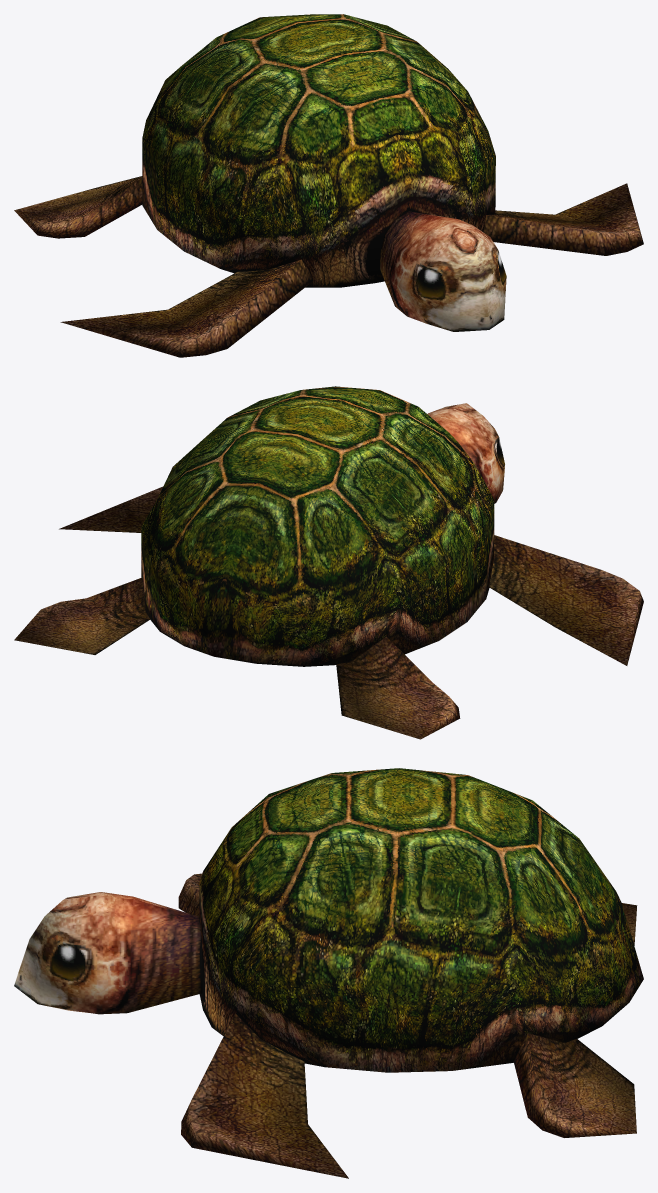
Rendered from Turtle.obj.
The picture shows the model from 3 angles, top to bottom: view 1: azimuth 30°, elevation 25°; view 2: azimuth 150°, elevation 25°; view 3: azimuth 270°, elevation 25°; orthographic projection. The views are drawn at different scales.
Bounding box in the file's own units: 59.85 × 20.22 × 50.05.
Materials: 2 (2 with a texture image).
